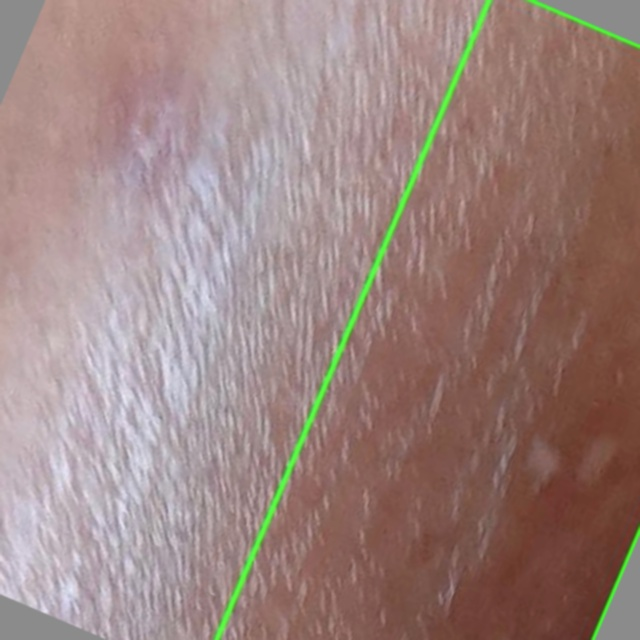Seborrheic Dermatitis: (216, 0, 639, 639)
